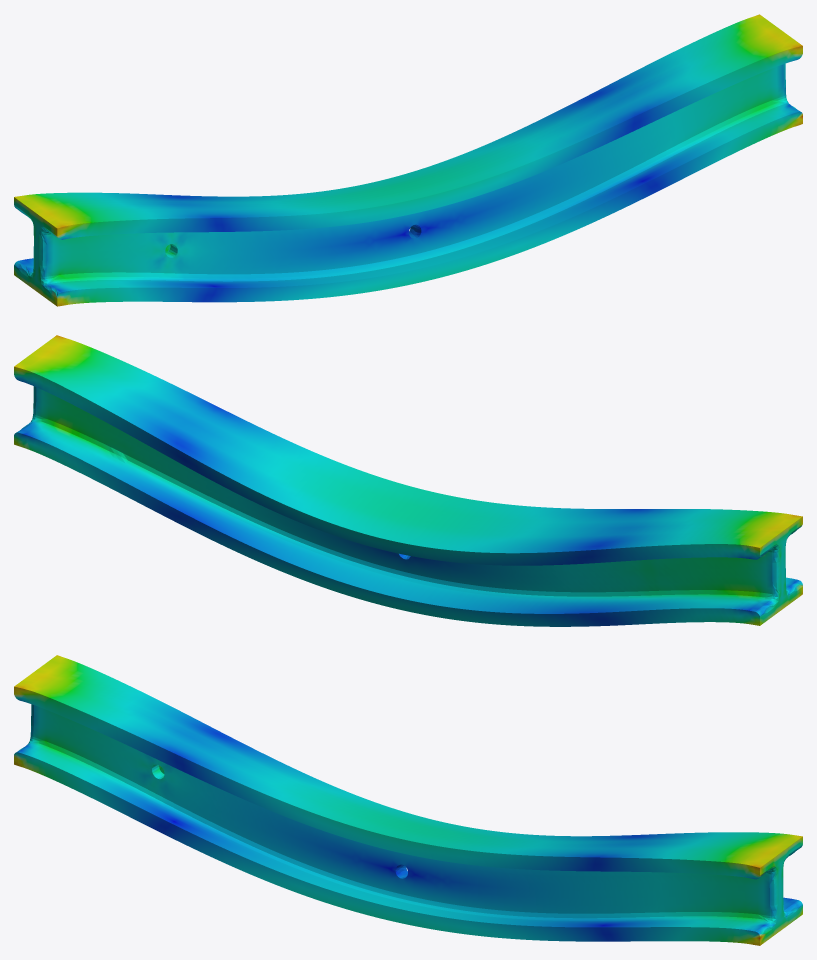
File: beam_finite_element_analysis.glb
The picture shows the model from 3 angles, top to bottom: view 1: azimuth 30°, elevation 25°; view 2: azimuth 150°, elevation 25°; view 3: azimuth 330°, elevation 25°; orthographic projection.
Parts seen in each view (by area): view 1: Object_3; view 2: Object_3; view 3: Object_3.
Part boxes in pixels (x1,y1,x2,y2): Object_3: (14,14,802,306); Object_3: (14,335,802,626); Object_3: (14,655,802,945).
Size of the model in its own units: 0.3001 by 0.0591 by 0.0358.
